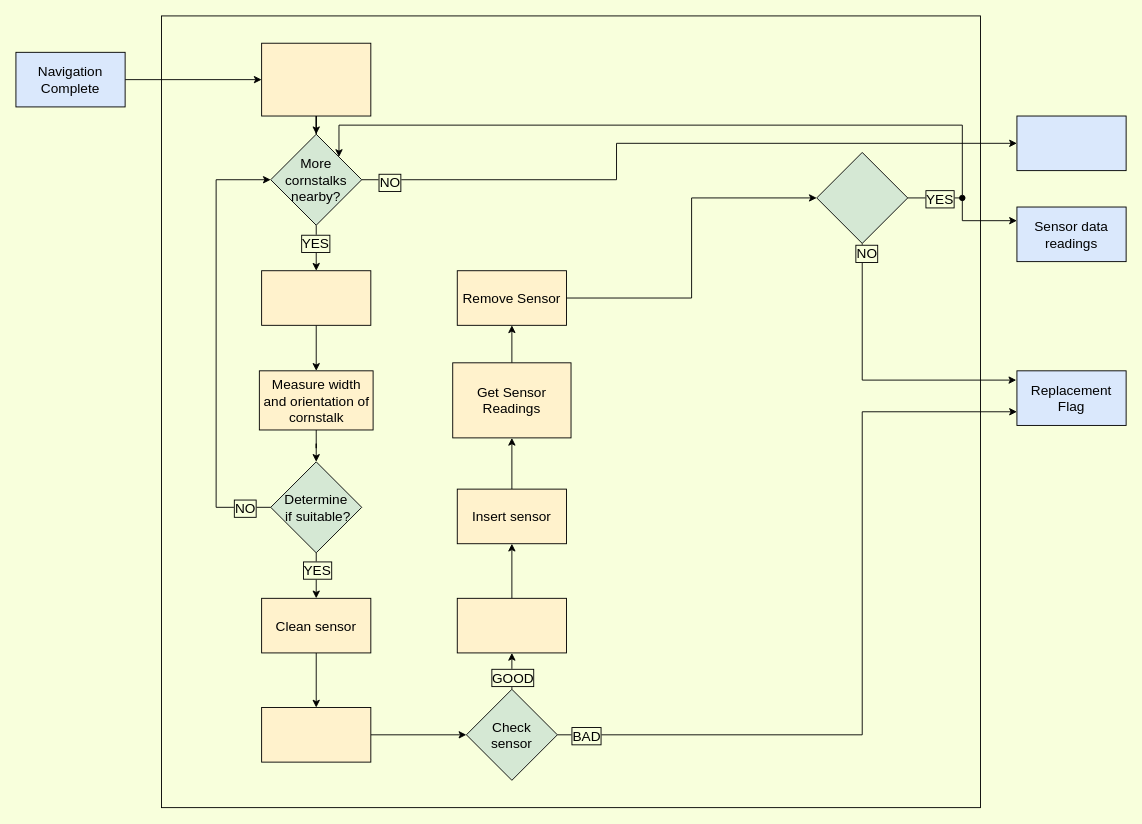
Some shapes in this 1142 by 824 pixel diagram are drawn without their labels. The centre of each missing label's shape, as x and y in pixels:
"Calibrate sensor" belongs at point 316,734.
"Completion Flag" belongs at point 1071,143.
"Grip cornstalk" belongs at point 511,625.
"Identify the location of the nearest cornstalks" belongs at point 316,79.
"Move arm to that cornstalk" belongs at point 316,297.
"Reading good?" belongs at point 862,197.
